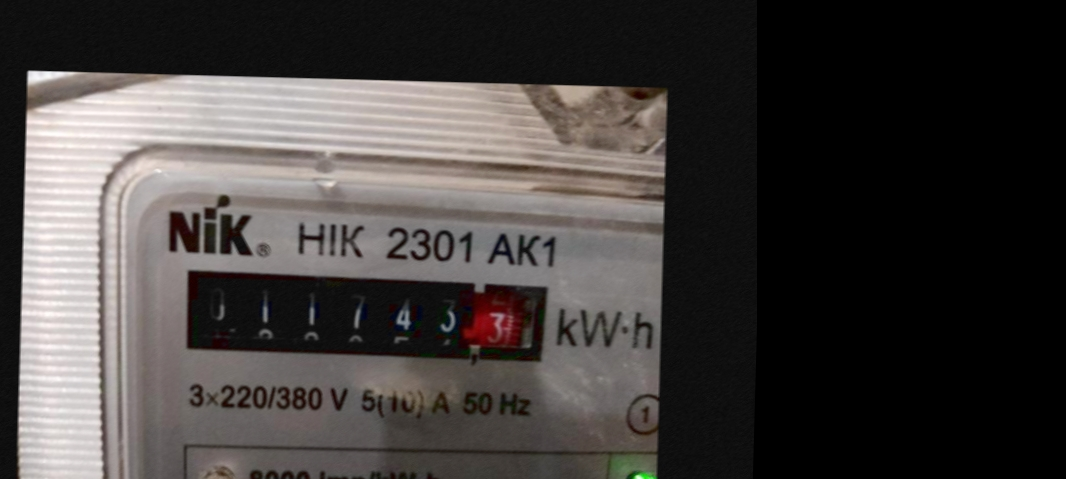0: (204, 284, 227, 323), (254, 284, 273, 325)
1: (301, 286, 318, 328)
3: (436, 293, 457, 336), (484, 307, 505, 346)
4: (391, 292, 412, 332)
7: (344, 287, 368, 332)
screen: (164, 256, 555, 373)
